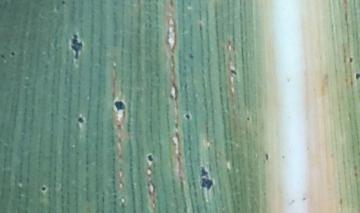tarspot: (69, 32, 84, 61), (198, 164, 214, 191), (112, 99, 126, 112), (227, 67, 238, 78), (76, 115, 86, 125), (263, 151, 270, 163), (1, 53, 10, 61), (146, 153, 154, 162), (183, 112, 191, 121), (347, 55, 354, 65), (353, 71, 360, 81), (186, 52, 194, 60), (244, 115, 251, 124), (9, 50, 16, 58), (40, 185, 47, 193), (168, 1, 174, 8), (60, 1, 67, 6)
